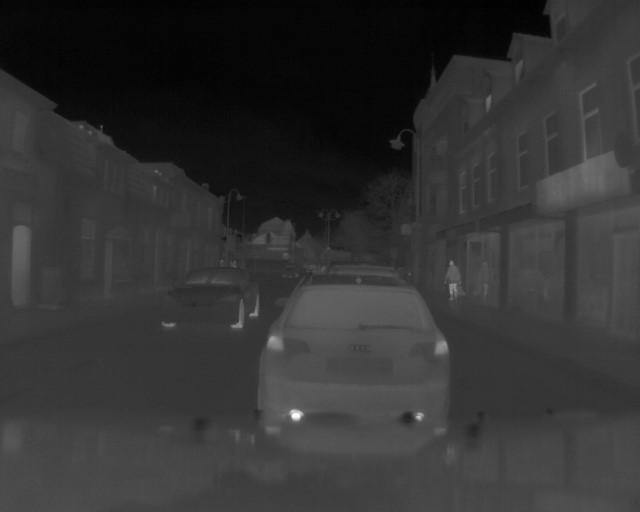car: (254, 277, 452, 424), (159, 267, 260, 330)
person: (444, 258, 461, 303)
